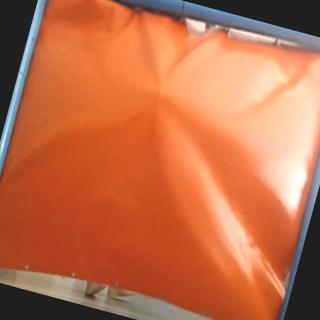Hit-hRxx: (147, 85, 165, 102)
